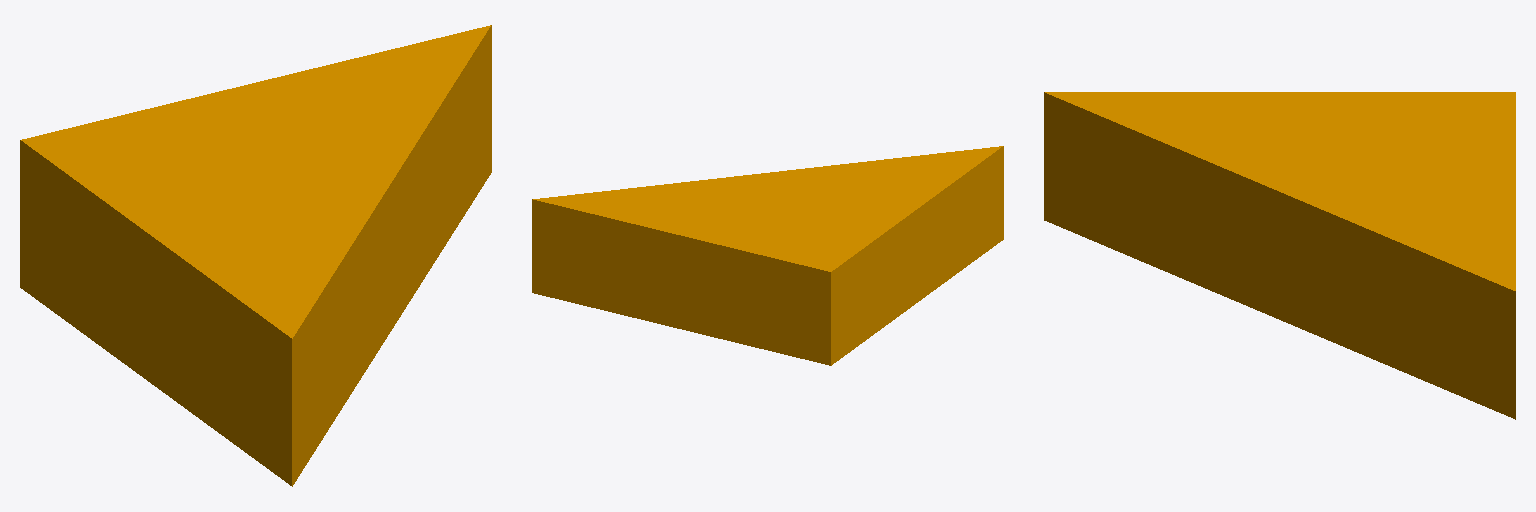
URDF robot description (ST1):
<?xml version="0.0" ?>
<robot name="ST1">
  <material name="Color">
    <color rgba="0.259, 1.000, 0.278, 1.0"/>
  </material>
  <link name="ST1">
    <inertial>
      <origin rpy="0 0 0" xyz="0 0 0"/>
       <mass value=".0"/>
       <inertia ixx="0" ixy="0" ixz="0" iyy="0" iyz="0" izz="0"/>
    </inertial>
    <visual>
      <origin rpy="0 0 0" xyz="0 0 0"/>
      <geometry>
		<mesh filename="ST.obj" scale="0.001 0.001 0.001"/>
      </geometry>
      <material name="Color"/>
    </visual>
    <collision>
      <origin rpy="0 0 0" xyz="0 0 0"/>
      <geometry>
	 	<mesh filename="ST.obj" scale="1 1 1"/>
      </geometry>
    </collision>
  </link>
</robot>

--- Render facts (derived) ---
3 views of the same robot in one strip: view 1: azimuth 30°, elevation 25°; view 2: azimuth 150°, elevation 25°; view 3: azimuth 270°, elevation 25° (orthographic).
Robot: ST1 — 1 links, 0 joints (none); root link ST1; default pose: every joint at zero.
Links seen in each view (by area): view 1: ST1; view 2: ST1; view 3: ST1.
Link boxes in pixels (x1,y1,x2,y2): ST1: (20,25,491,486); ST1: (532,146,1003,365); ST1: (1044,92,1515,419).
Bounding box of the posed robot: 0.1 × 0.1 × 0.03 m (x, y, z).
Meshes: 1 distinct files referenced, 1 mesh visuals loaded (1 OBJ).